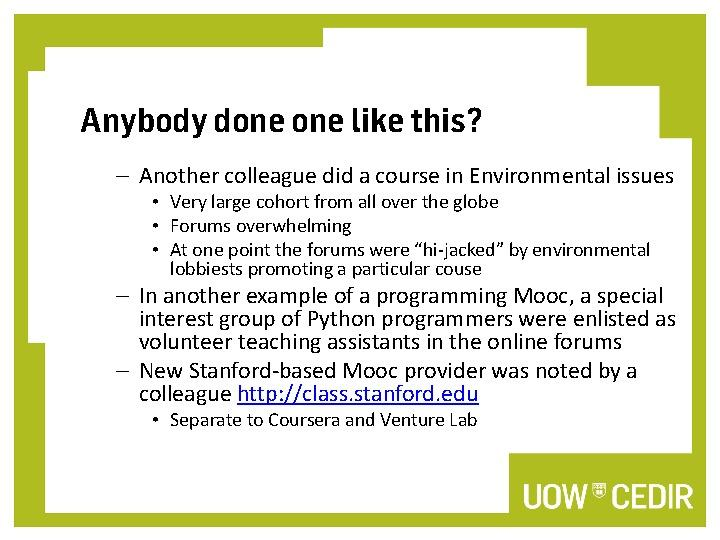paragraph: (101, 157, 685, 434)
title: (70, 93, 501, 149)
